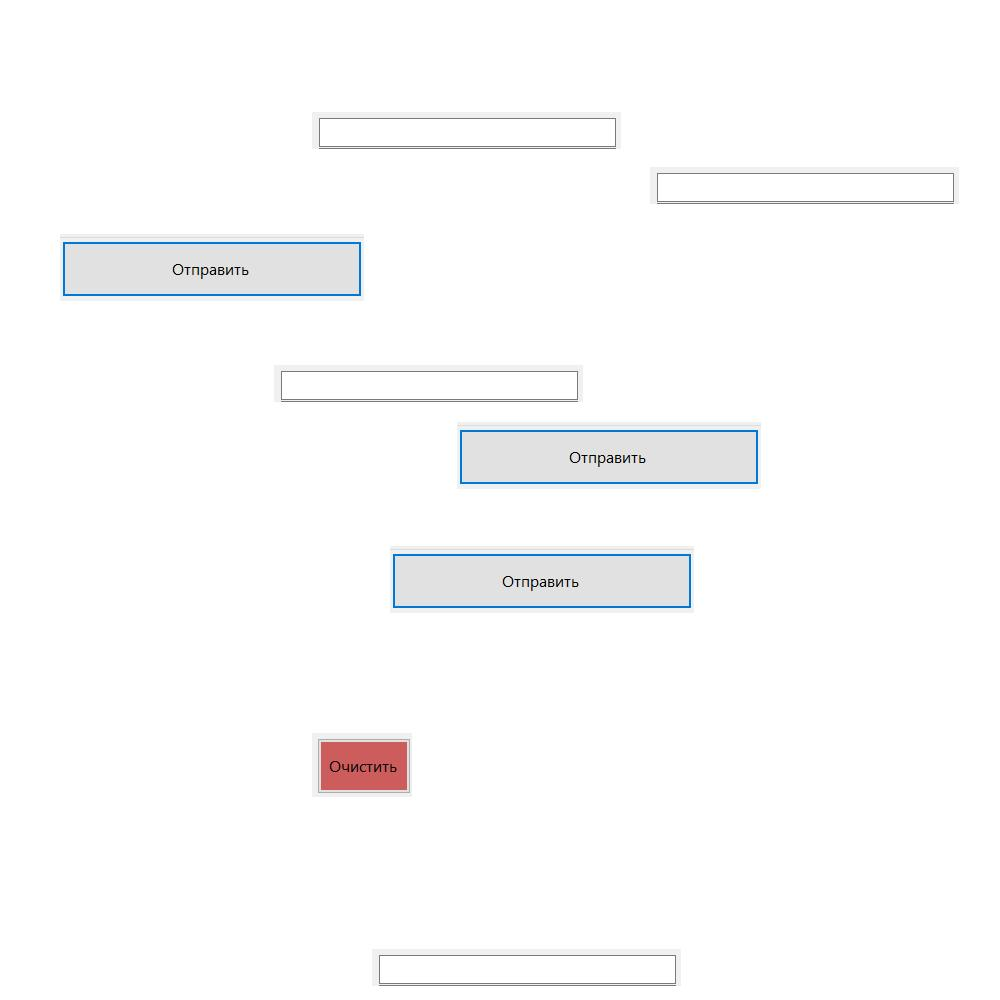Button: (60, 234, 364, 301), (390, 546, 694, 613), (457, 422, 761, 489), (312, 733, 412, 797)
EditText-: (650, 167, 959, 204), (372, 949, 681, 986), (274, 365, 583, 402), (312, 112, 621, 149)
